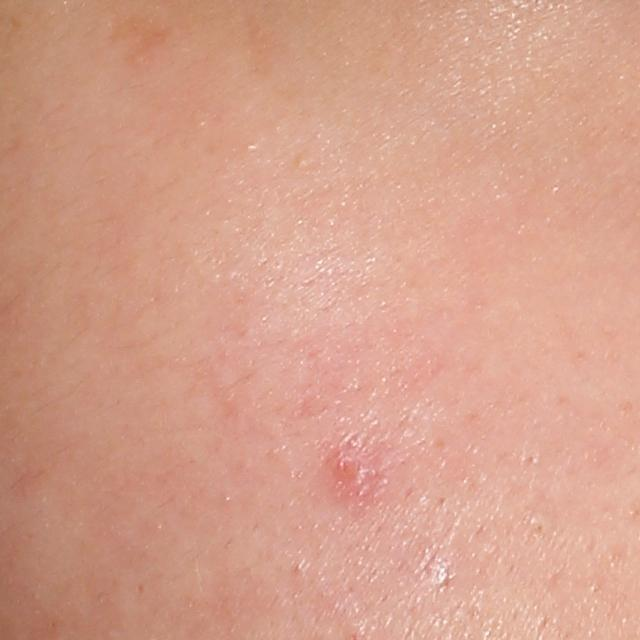melasma: (105, 8, 175, 77)
papule: (320, 444, 377, 503)
